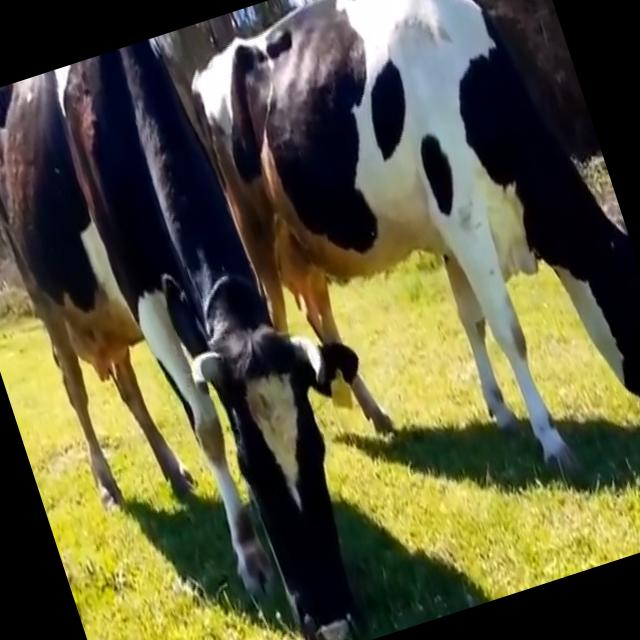cow: (0, 0, 640, 640), (411, 76, 454, 113), (373, 73, 399, 127)
